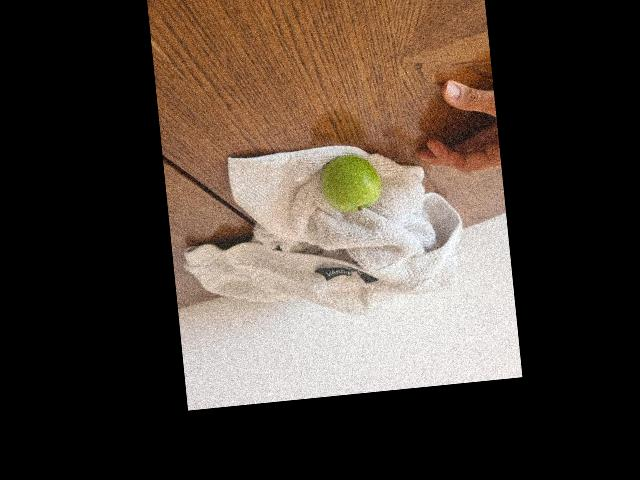apple: (320, 146, 387, 214)
